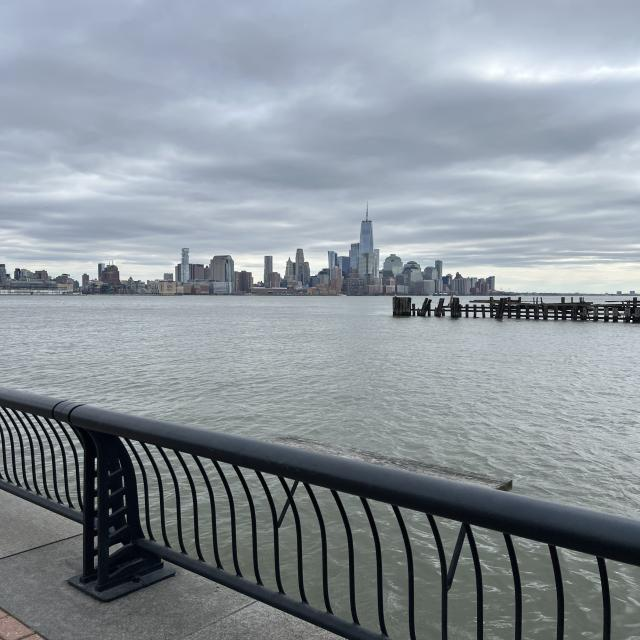WTC: (358, 202, 374, 252)
